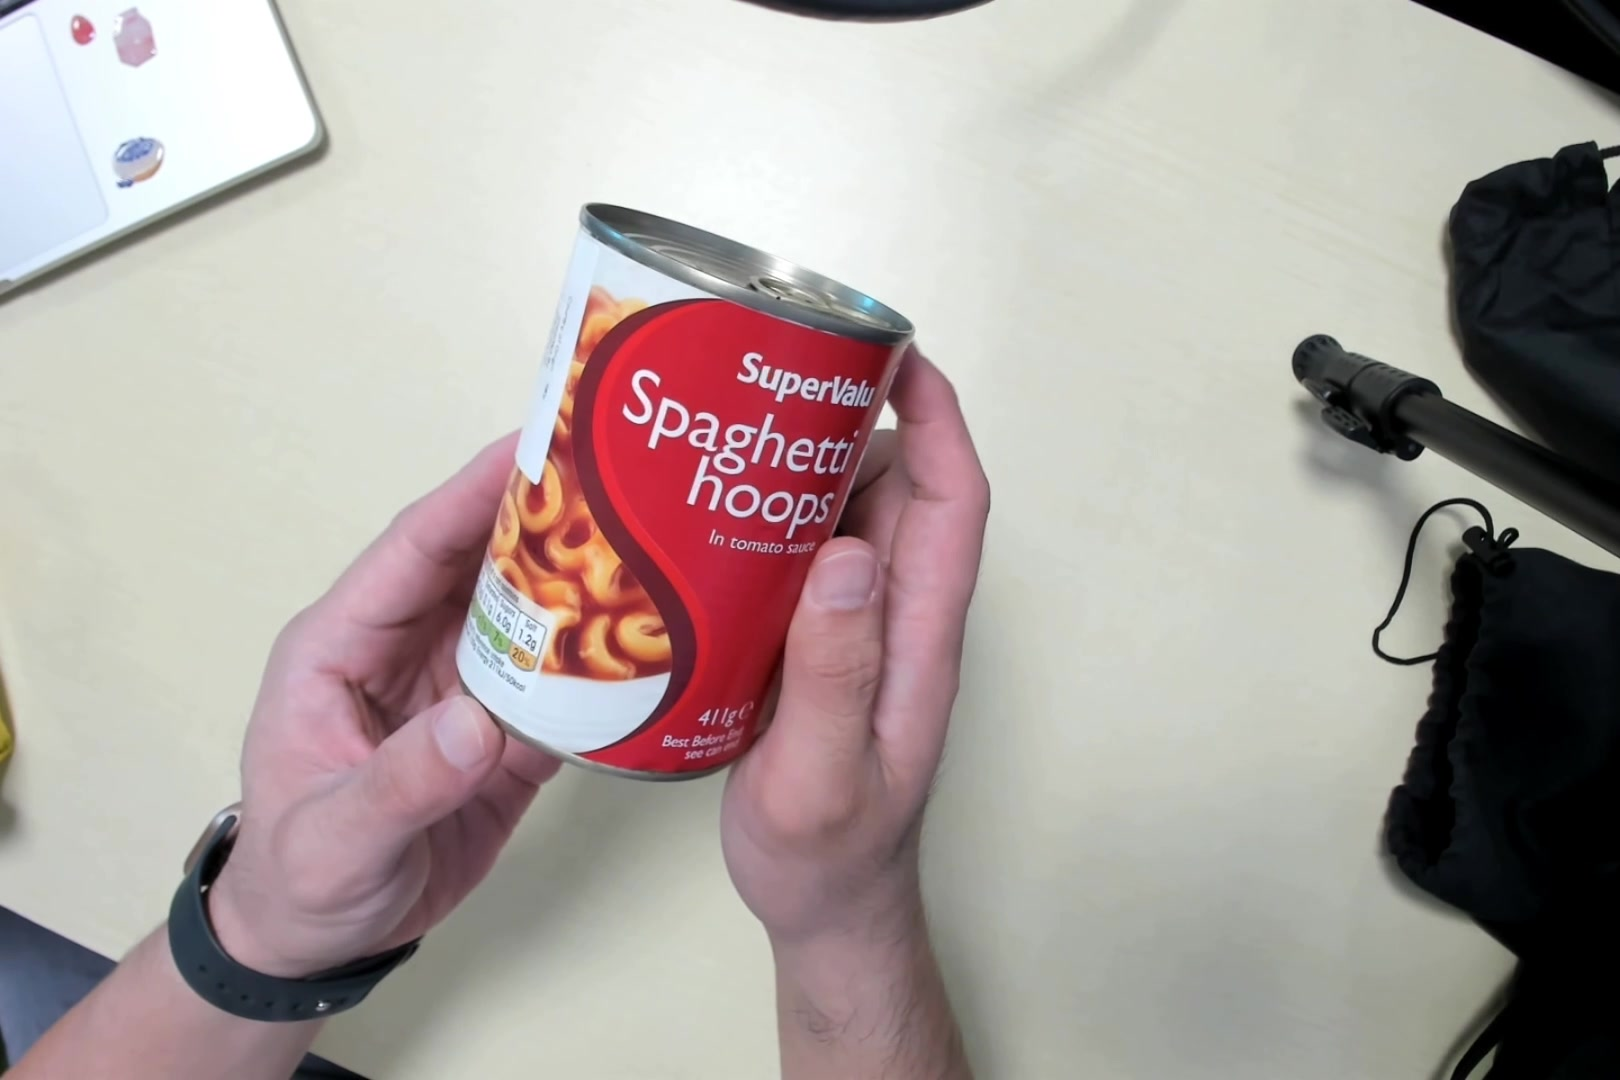InstantMeals_400-499g_NonHalal_NonHealthy: (465, 200, 887, 775)
